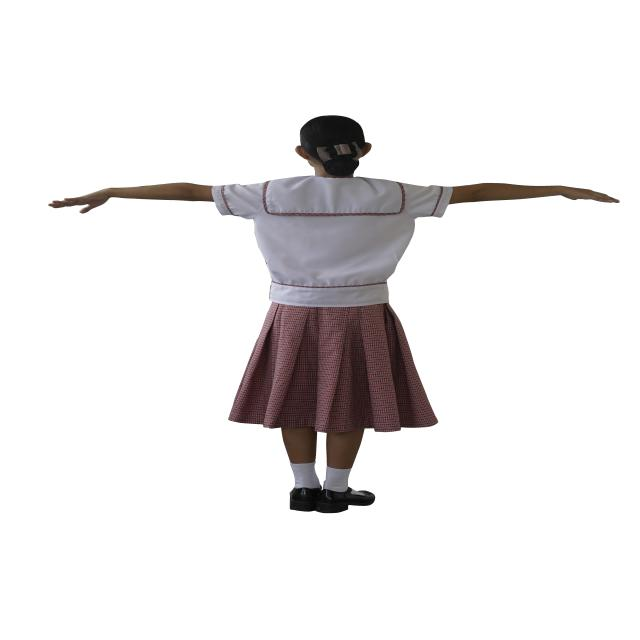pologirl: (219, 180, 449, 305)
shoes: (228, 302, 434, 433)
skirt: (290, 486, 374, 513), (290, 486, 324, 512)
